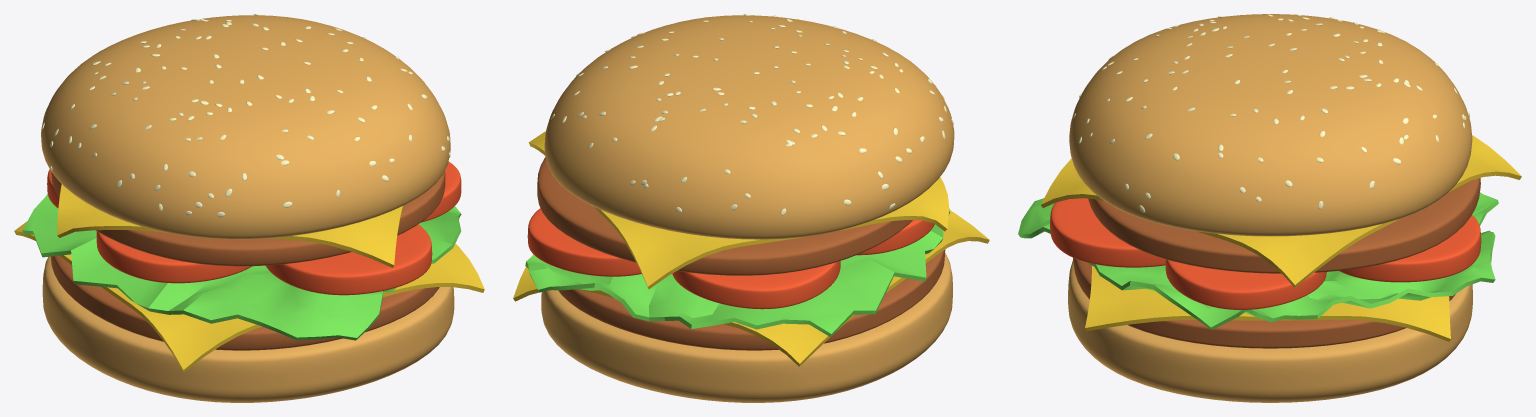
File: hamburger.glb
3 renders of one model, left to right at view 1: azimuth 30°, elevation 25°; view 2: azimuth 150°, elevation 25°; view 3: azimuth 270°, elevation 25°, orthographic.
Visible parts, largest first — view 1: Bread top, Bread bottom, Salad, Meat 2, Cheese, Tomato.004, Meat, Cheese 2, Tomato, Tomato.003; view 2: Bread top, Bread bottom, Salad, Meat 2, Meat, Cheese 2, Tomato.001, Cheese, Tomato.002, Tomato; view 3: Bread top, Bread bottom, Meat 2, Salad, Cheese, Cheese 2, Meat, Tomato.003, Tomato.004, Tomato.002.
Part boxes in pixels (bbox=[...]): Bread top: bbox=[41, 15, 450, 239]; Bread bottom: bbox=[42, 256, 454, 402]; Salad: bbox=[22, 194, 461, 340]; Meat 2: bbox=[51, 171, 445, 266]; Cheese: bbox=[14, 221, 484, 372]; Tomato.004: bbox=[266, 224, 432, 295]; Meat: bbox=[51, 255, 439, 350]; Cheese 2: bbox=[57, 184, 403, 267]; Tomato: bbox=[96, 231, 251, 283]; Tomato.003: bbox=[421, 161, 461, 222]; Bread top: bbox=[544, 15, 954, 239]; Bread bottom: bbox=[541, 252, 952, 402]; Salad: bbox=[525, 209, 950, 337]; Meat 2: bbox=[537, 156, 912, 275]; Meat: bbox=[558, 250, 945, 350]; Cheese 2: bbox=[528, 131, 949, 289]; Tomato.001: bbox=[672, 261, 840, 309]; Cheese: bbox=[513, 210, 989, 366]; Tomato.002: bbox=[527, 208, 641, 276]; Tomato: bbox=[856, 220, 934, 255]; Bread top: bbox=[1069, 14, 1472, 236]; Bread bottom: bbox=[1068, 260, 1472, 402]; Meat 2: bbox=[1088, 178, 1480, 273]; Salad: bbox=[1018, 192, 1498, 329]; Cheese: bbox=[1085, 265, 1450, 341]; Cheese 2: bbox=[1041, 135, 1521, 287]; Meat: bbox=[1073, 258, 1455, 348]; Tomato.003: bbox=[1165, 259, 1326, 309]; Tomato.004: bbox=[1050, 198, 1165, 267]; Tomato.002: bbox=[1339, 215, 1481, 282].
Bounding box in the file's own units: 21.12 × 14.48 × 22.83.
